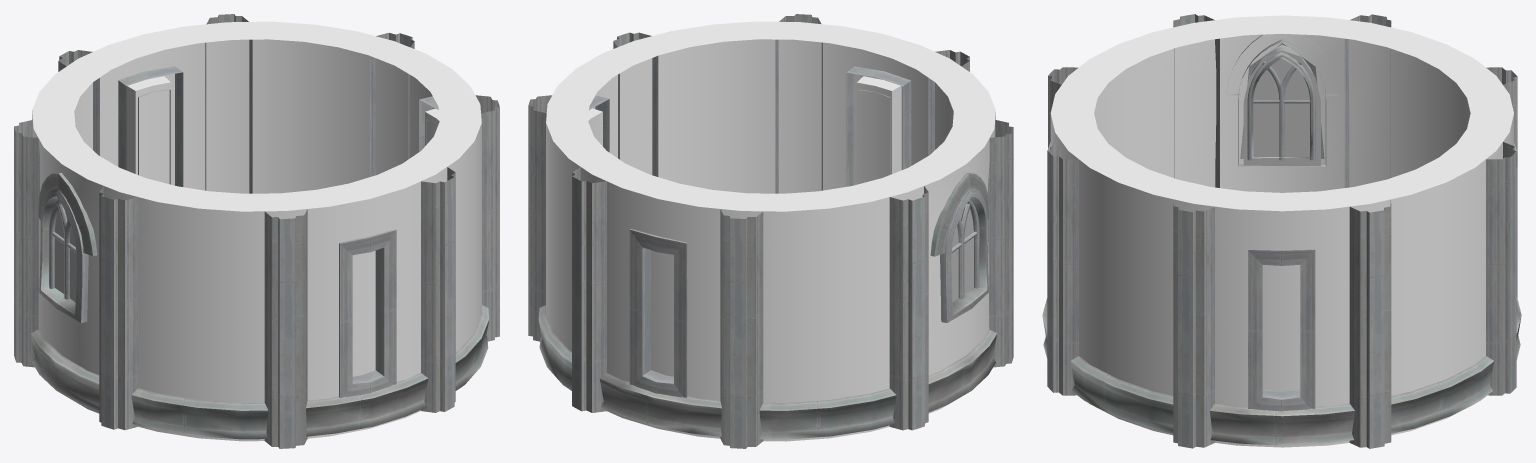
Rendered from SM_TowerB_Mid1Window_Window.fbx.
3 views of the same model, side by side, from view 1: azimuth 30°, elevation 25°; view 2: azimuth 150°, elevation 25°; view 3: azimuth 270°, elevation 25° (orthographic). The views are drawn at different scales.
Parts seen in each view (by area): view 1: SM_TowerB_Mid1Window_Window_LOD0; view 2: SM_TowerB_Mid1Window_Window_LOD0; view 3: SM_TowerB_Mid1Window_Window_LOD0.
Part boxes in pixels (bbox=[...]): SM_TowerB_Mid1Window_Window_LOD0: bbox=[14, 14, 499, 448]; SM_TowerB_Mid1Window_Window_LOD0: bbox=[528, 14, 1013, 448]; SM_TowerB_Mid1Window_Window_LOD0: bbox=[1042, 14, 1521, 448].
Size of what is drawn, in the model's own units: 8.26 by 4.5 by 8.27.
